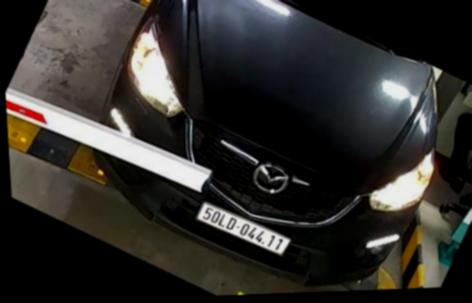License_Plate: (194, 197, 297, 261)
